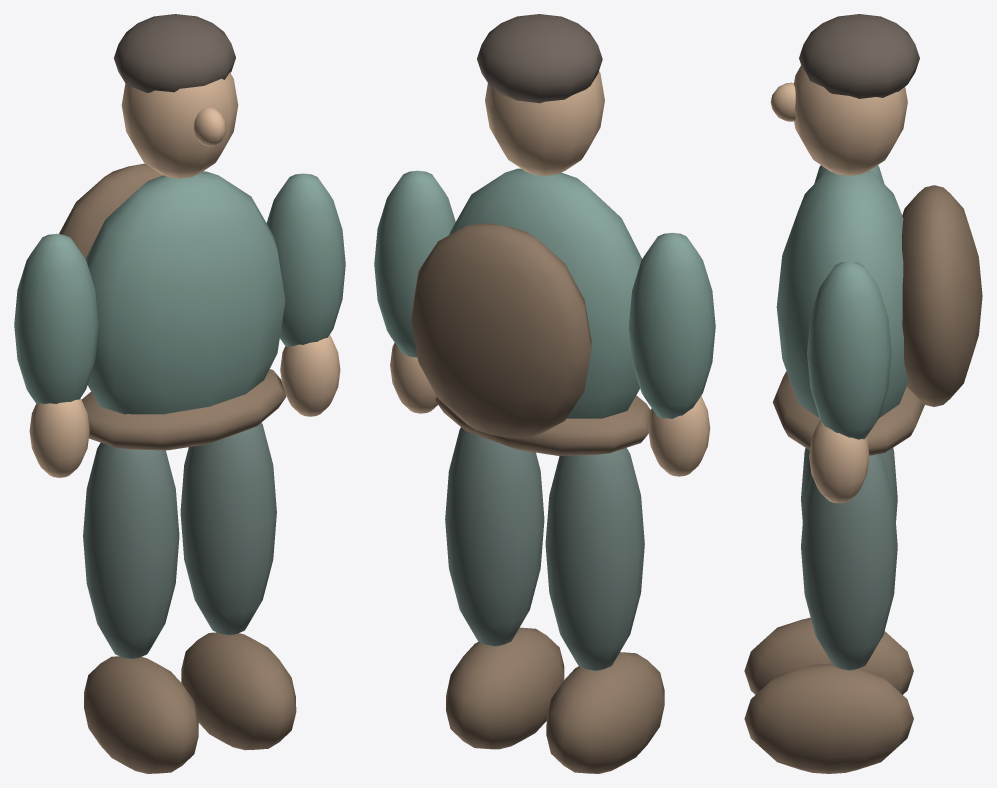
File: traveler.glb
3 views of the same model, side by side, from view 1: azimuth 30°, elevation 25°; view 2: azimuth 150°, elevation 25°; view 3: azimuth 270°, elevation 25° (orthographic). The views are drawn at different scales.
Parts seen in each view (by area): view 1: Torso, Trouser (×2), Sleeve (×2), Boot (×2), Head, Hand (×2), Hair, Belt, Pack, Nose; view 2: Trouser (×2), Pack, Boot (×2), Sleeve (×2), Torso, Hair, Head, Hand (×2), Belt; view 3: Boot (×2), Torso, Trouser (×2), Pack, Sleeve, Hair, Head, Belt, Hand, Nose.
Boxes of the visible parts, bbox=[...] form: Torso: bbox=[85, 171, 285, 414]; Trouser (×2): bbox=[83, 422, 276, 659]; Sleeve (×2): bbox=[14, 173, 345, 404]; Boot (×2): bbox=[84, 632, 296, 773]; Head: bbox=[121, 72, 238, 178]; Hand (×2): bbox=[29, 335, 340, 477]; Hair: bbox=[114, 14, 235, 92]; Belt: bbox=[81, 369, 286, 450]; Pack: bbox=[59, 163, 163, 258]; Nose: bbox=[194, 107, 226, 146]; Trouser (×2): bbox=[445, 427, 644, 671]; Pack: bbox=[411, 223, 591, 438]; Boot (×2): bbox=[446, 627, 664, 773]; Sleeve (×2): bbox=[374, 170, 715, 418]; Torso: bbox=[448, 168, 641, 418]; Hair: bbox=[477, 14, 602, 103]; Head: bbox=[485, 71, 604, 175]; Hand (×2): bbox=[390, 342, 710, 476]; Belt: bbox=[435, 395, 650, 455]; Boot (×2): bbox=[744, 617, 913, 773]; Torso: bbox=[776, 170, 907, 418]; Trouser (×2): bbox=[801, 448, 897, 670]; Pack: bbox=[902, 185, 982, 406]; Sleeve: bbox=[807, 261, 891, 439]; Hair: bbox=[799, 14, 919, 98]; Head: bbox=[794, 65, 907, 175]; Belt: bbox=[772, 371, 924, 455]; Hand: bbox=[809, 420, 869, 503]; Nose: bbox=[770, 82, 795, 121].
Size of the model in its own units: 0.92 by 1.98 by 0.59.
